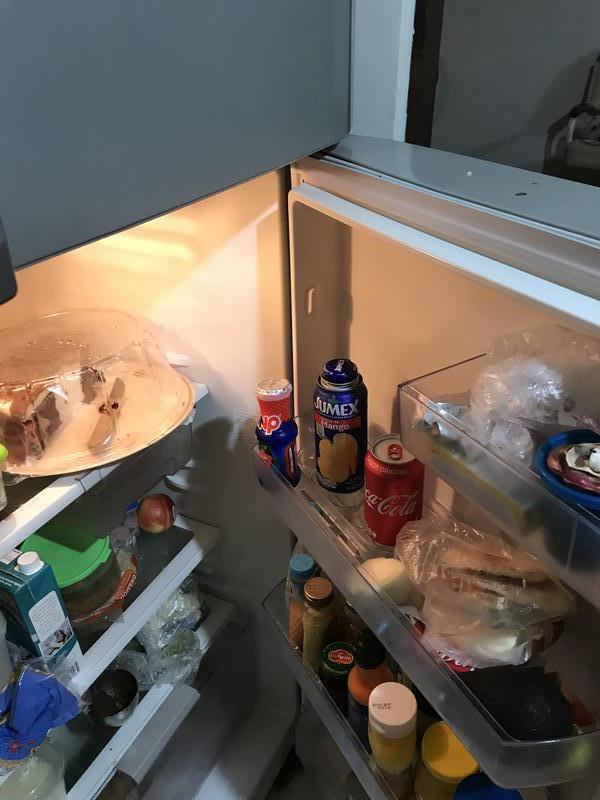coca_cola: (366, 437, 425, 545)
danup: (255, 379, 301, 494)
jugo_jumex: (314, 359, 366, 494)
